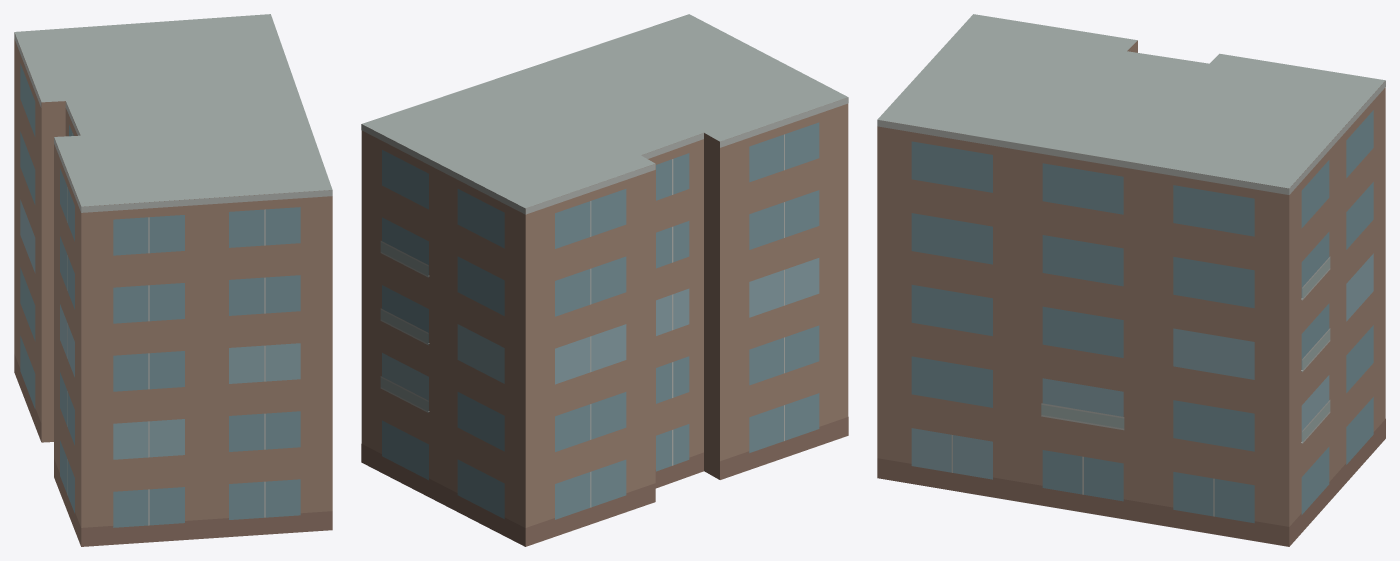
Rendered from survey-upis-32880043.glb.
3 views of the same model, side by side, from view 1: azimuth 30°, elevation 25°; view 2: azimuth 150°, elevation 25°; view 3: azimuth 270°, elevation 25° (orthographic). The views are drawn at different scales.
Visible parts, largest first — view 1: survey-upis-32880043.tmp; view 2: survey-upis-32880043.tmp; view 3: survey-upis-32880043.tmp.
Part boxes in pixels (box(x1,y1,x2,y2)): survey-upis-32880043.tmp: box(14, 14, 332, 546); survey-upis-32880043.tmp: box(361, 14, 848, 546); survey-upis-32880043.tmp: box(877, 14, 1385, 546).
Size of the model in its own units: 13.79 by 13.2 by 16.99.
